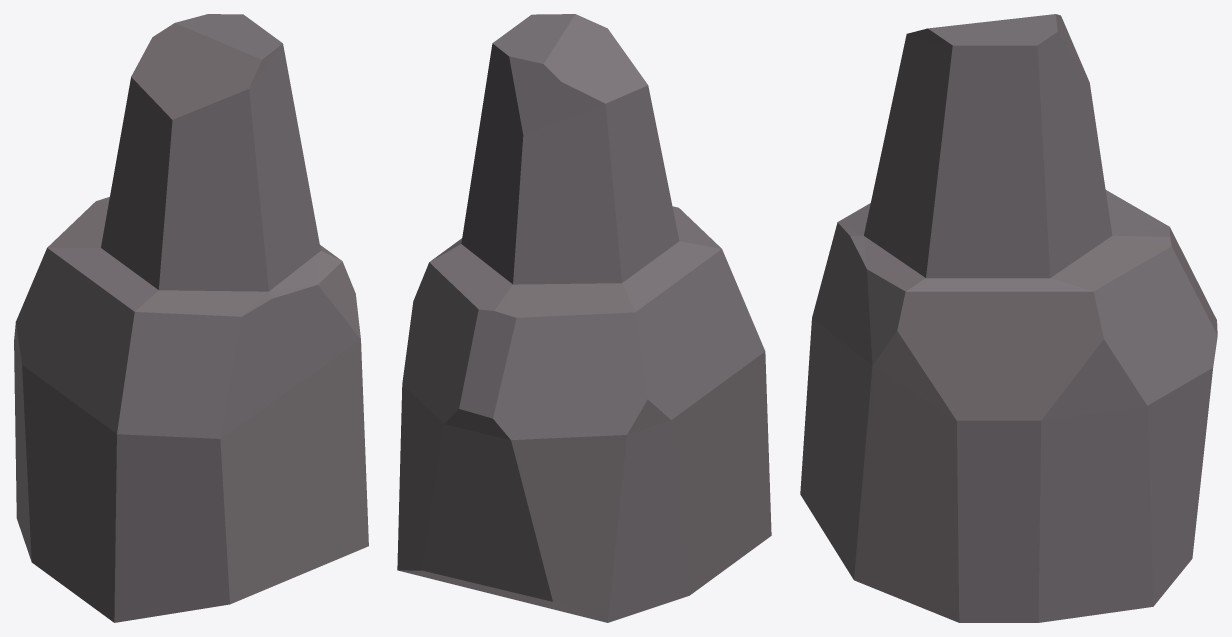
File: Rock_Round_l_05.fbx
The picture shows the model from 3 angles, left to right: view 1: azimuth 30°, elevation 25°; view 2: azimuth 150°, elevation 25°; view 3: azimuth 270°, elevation 25°; orthographic projection. The views are drawn at different scales.
Parts seen in each view (by area): view 1: Rock_Round_l_05; view 2: Rock_Round_l_05; view 3: Rock_Round_l_05.
Boxes of the visible parts, x1,y1,x2,y2 form: Rock_Round_l_05: (14,14,368,622); Rock_Round_l_05: (397,14,771,622); Rock_Round_l_05: (800,14,1217,622).
Size of the model in its own units: 1.28 by 2.22 by 1.55.
